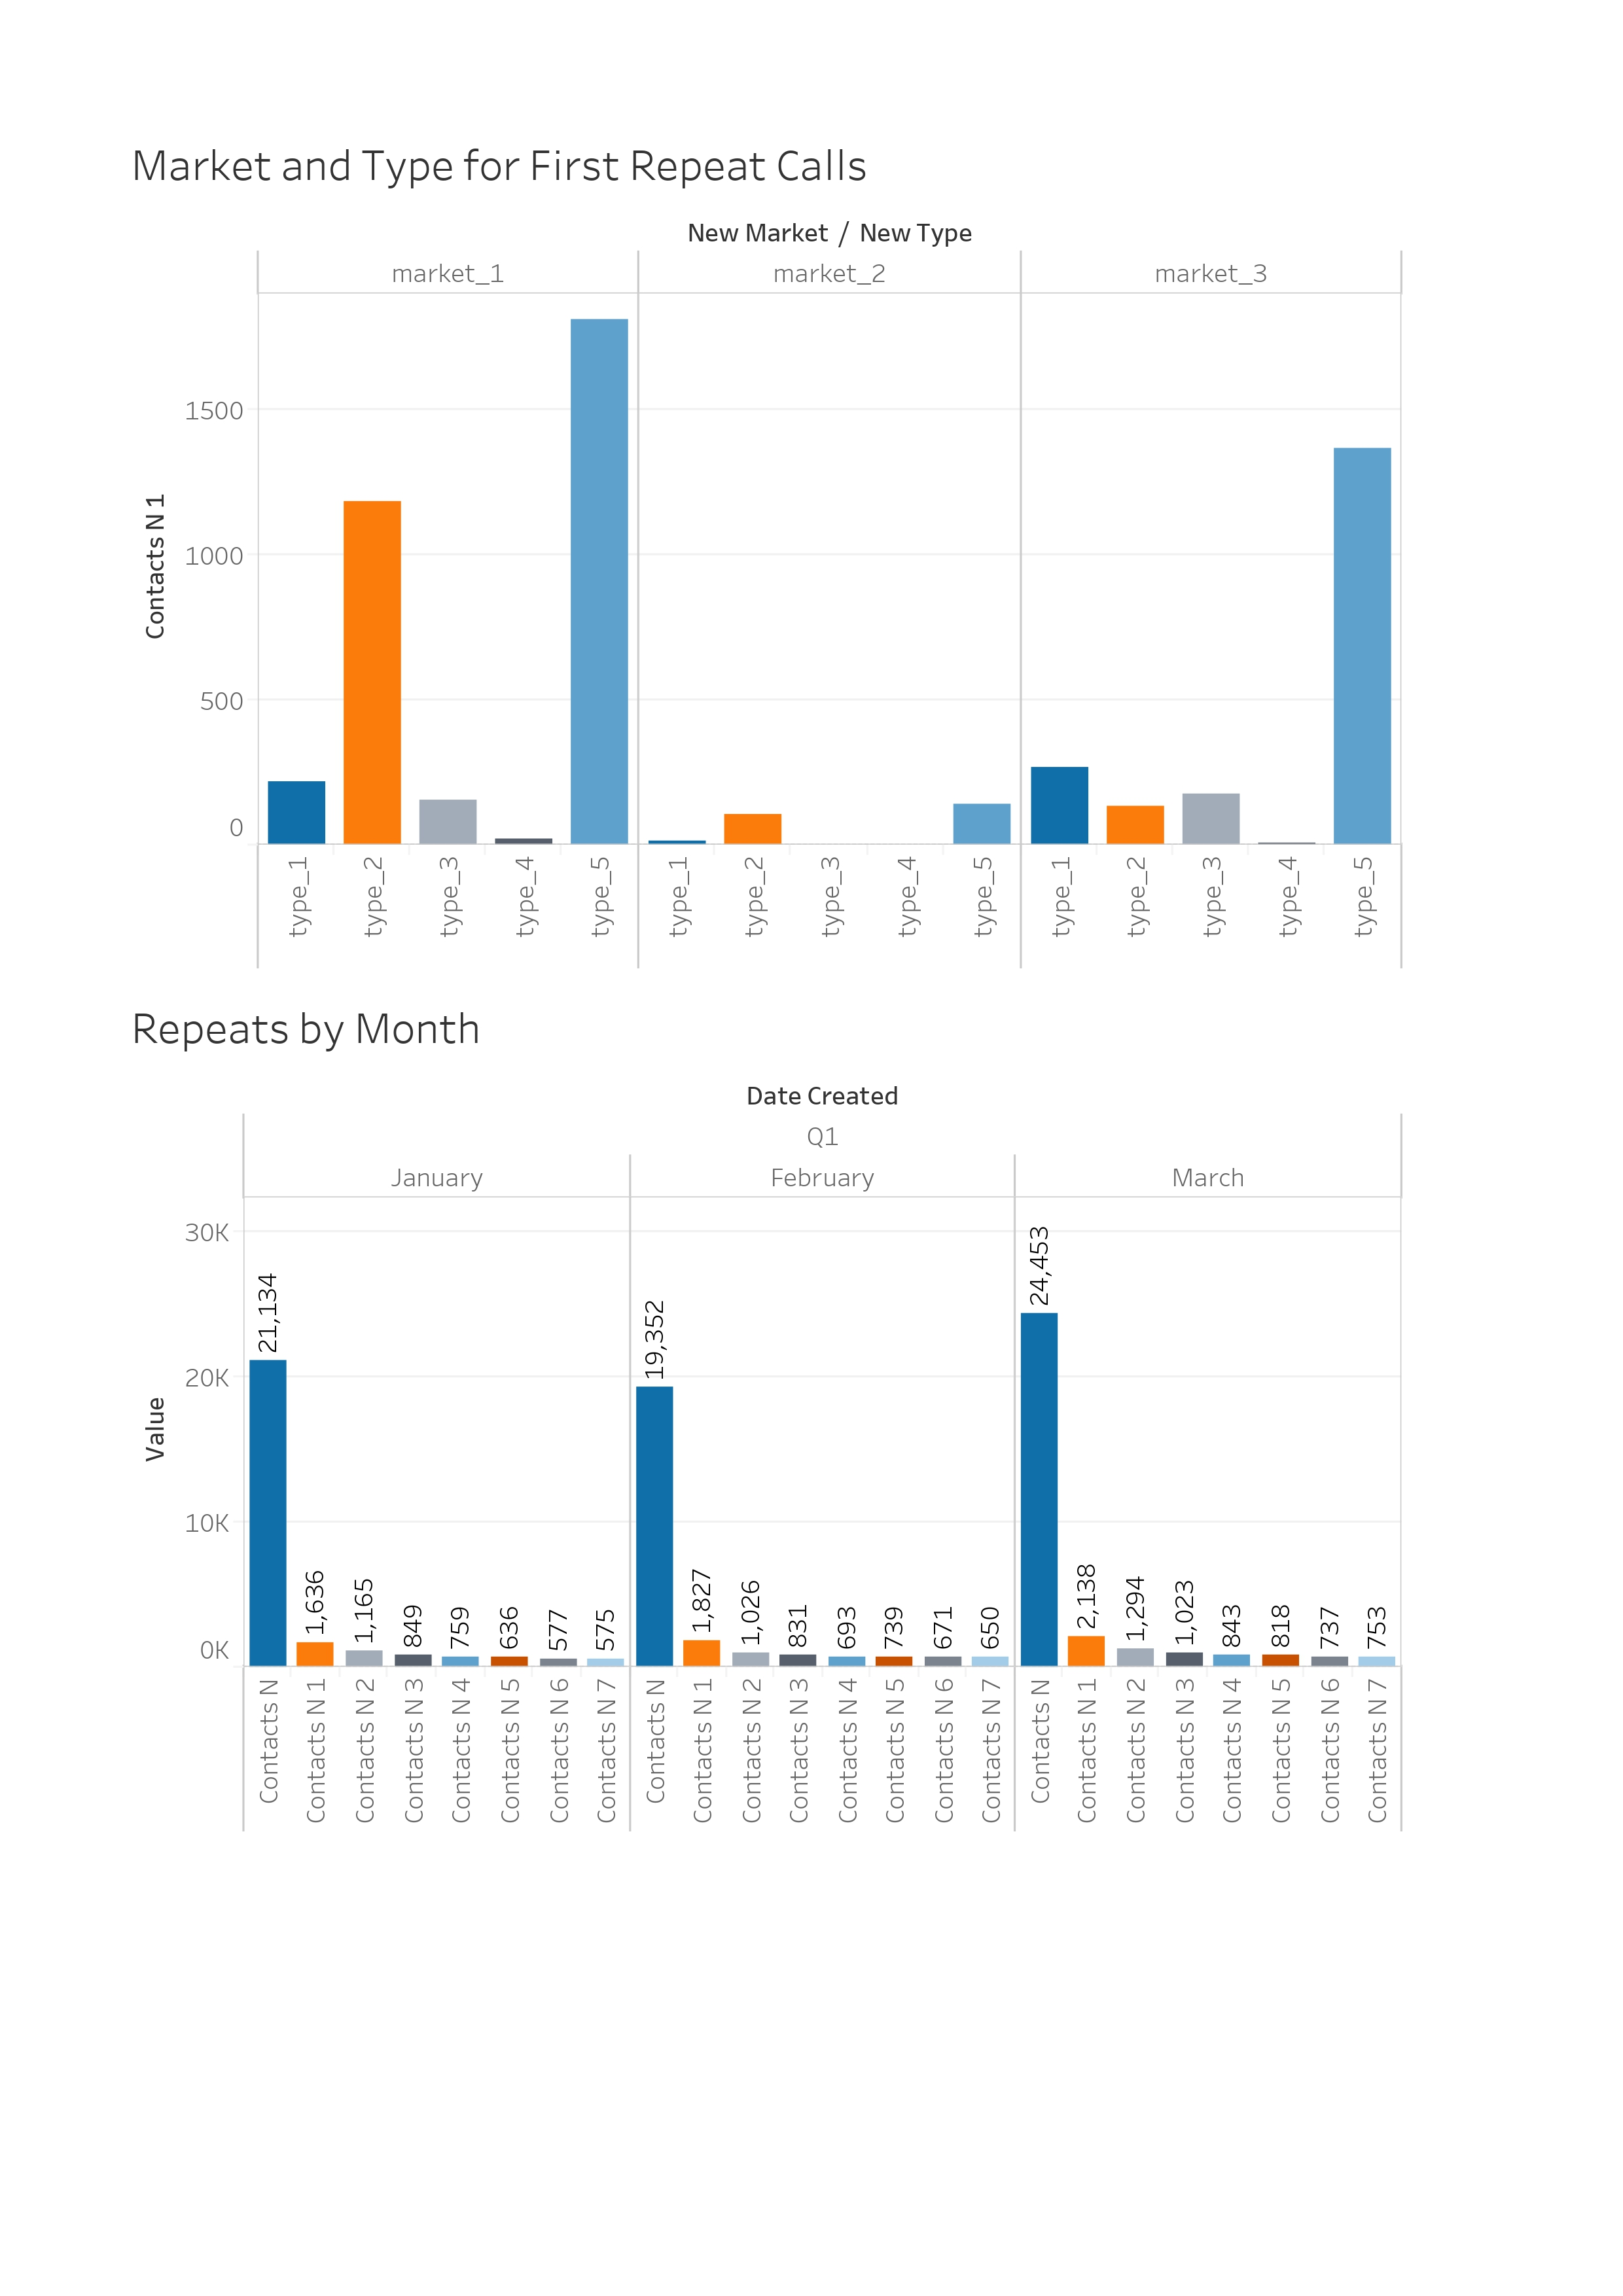

The dashboard page shown, as its layout file describes it:
{"tool":"tableau","page":{"name":"Dashboard 2","canvas":[650,860],"ordinal":1},"visuals":[{"type":"worksheet","title":"Day 1 - Graph - Market and Type","mark":"Automatic","rows":["contacts_n_1"],"cols":["new_market","new_type"],"box":[8,8,634,422]},{"type":"worksheet","title":"Repeats by Month","mark":"Bar","cols":["date_created","date_created"],"box":[8,430,634,422]}]}

Visuals, with their boxes on the page's 650x860 design canvas (x1, y1, x2, y2). These are canvas units, not pixel positions in the 1623x2296 screenshot, which may show the page scaled, cropped or inside an application window:
"Day 1 - Graph - Market and Type" worksheet: <bbox>8, 8, 642, 430</bbox>
"Repeats by Month" worksheet (Bar marks): <bbox>8, 430, 642, 852</bbox>
